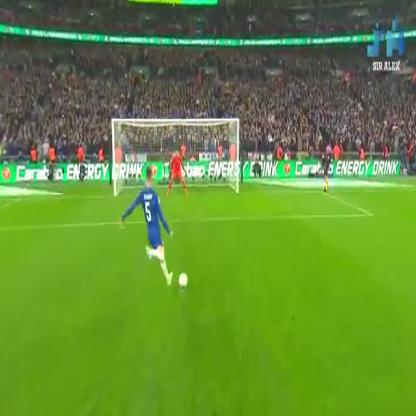penalty kick: (114, 80, 207, 314)
